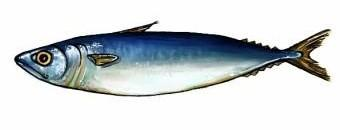fish: (14, 21, 329, 95)
